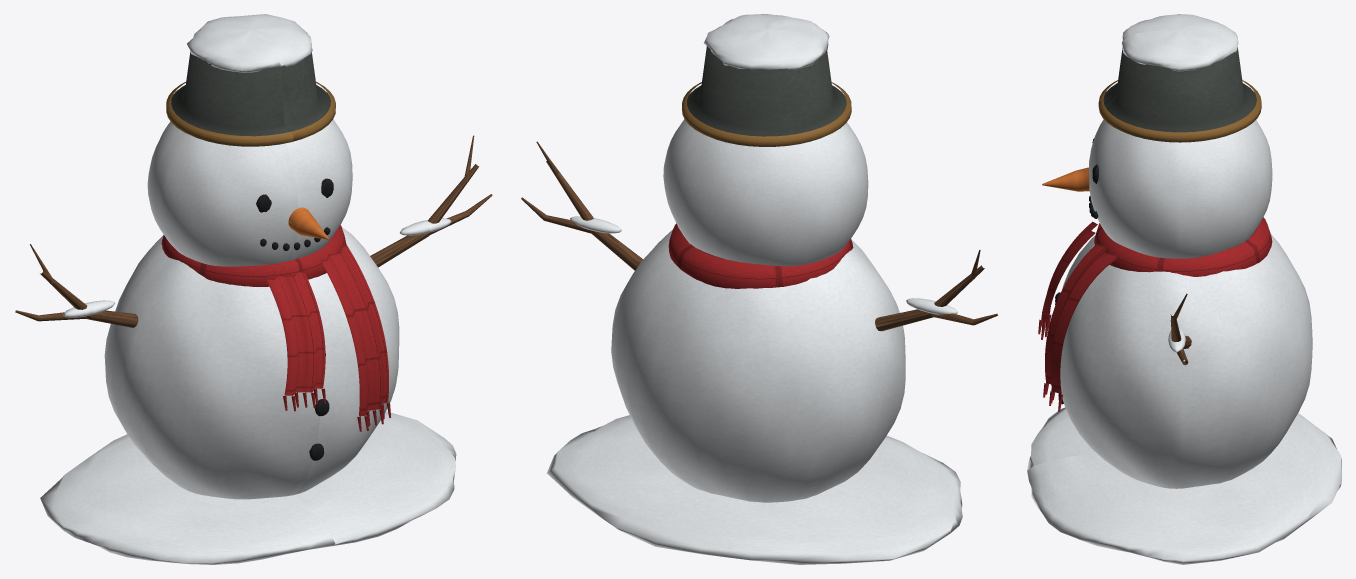
File: nyanisyarud-snow-snowman.glb
The picture shows the model from 3 angles, left to right: view 1: azimuth 30°, elevation 25°; view 2: azimuth 150°, elevation 25°; view 3: azimuth 270°, elevation 25°; orthographic projection. The views are drawn at different scales.
Parts seen in each view (by area): view 1: Snowman | front +Z; view 2: Snowman | front +Z; view 3: Snowman | front +Z.
Part boxes in pixels (box(x1,y1,x2,y2)): Snowman | front +Z: box(15, 14, 492, 564); Snowman | front +Z: box(521, 14, 997, 564); Snowman | front +Z: box(1027, 14, 1341, 564).
Bounding box in the file's own units: 2.58 × 2.47 × 1.54.
7 materials, 7 textured.
